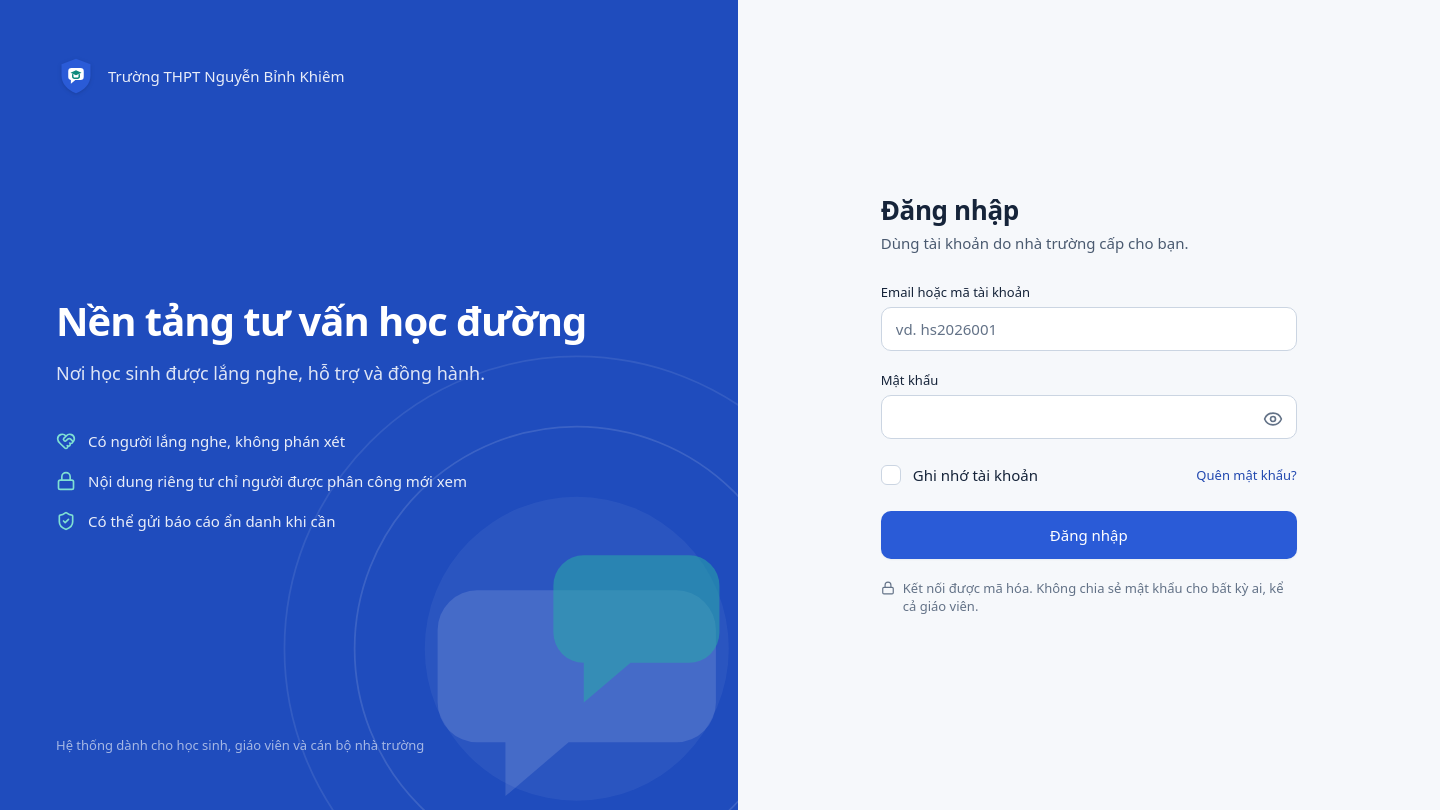
Test: điều hướng và bảo vệ route › kiểm tra biểu mẫu đăng nhập trước khi gửi
Click the button "Đăng nhập" at {"x": 1089, "y": 535}, box left=881, top=511, right=1297, bottom=559
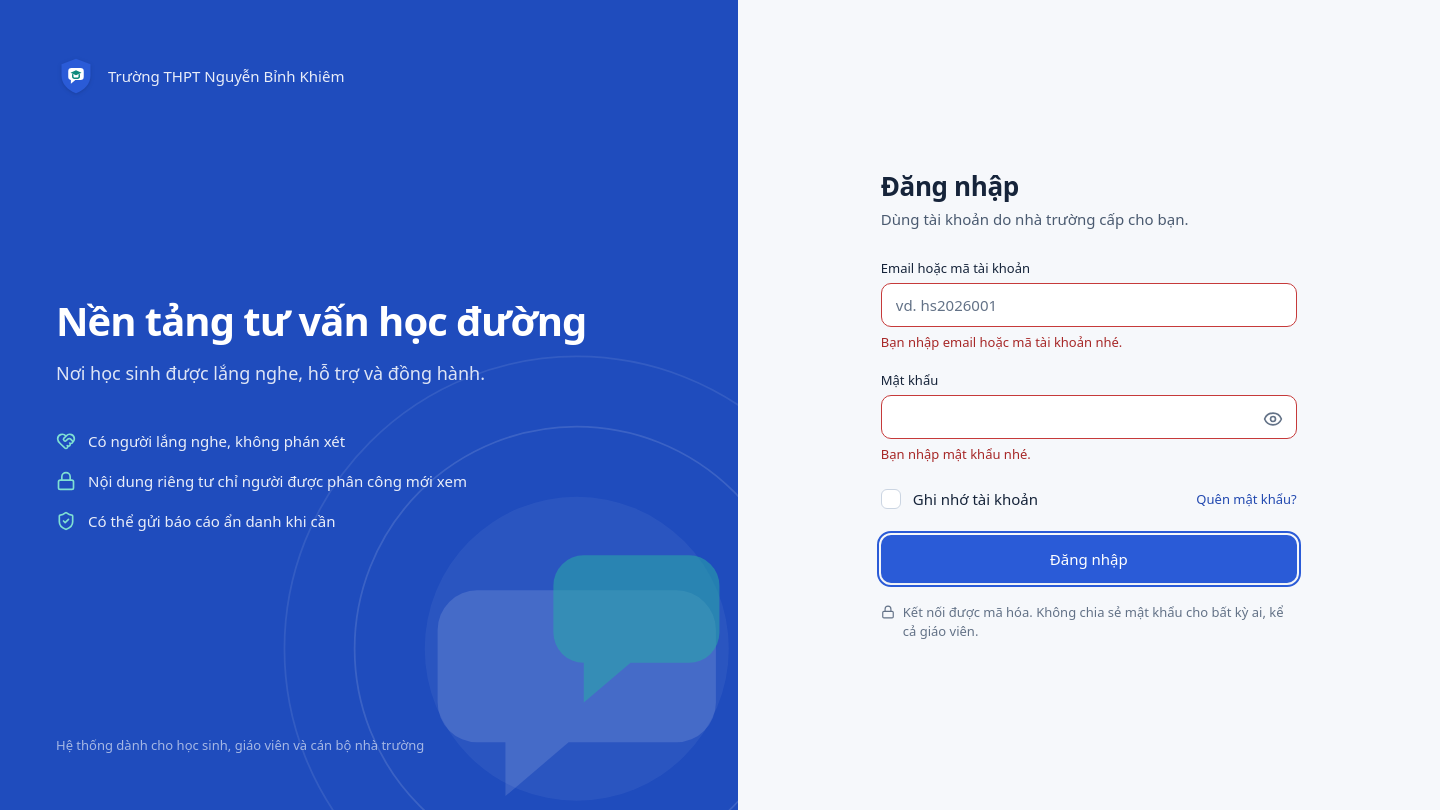
Result: the text "Bạn nhập email hoặc mã tài khoản nhé." is shown at left=881, top=333, right=1122, bottom=351
Result: the text "Bạn nhập mật khẩu nhé." is shown at left=881, top=445, right=1031, bottom=463
